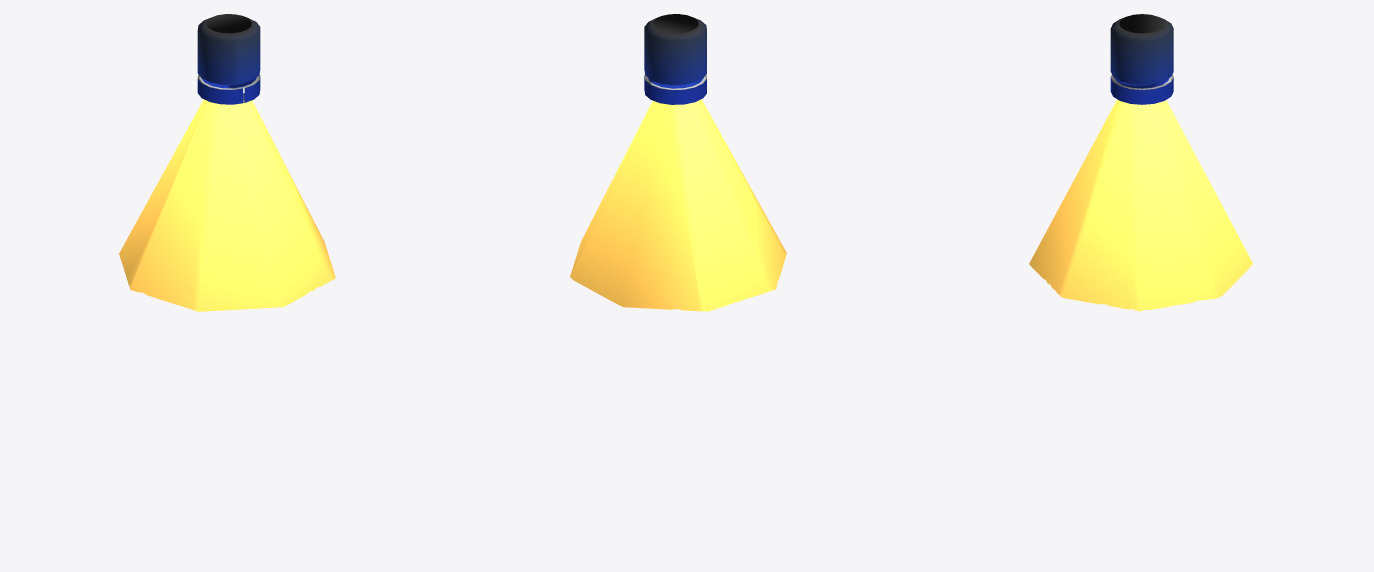
Rendered from LIT0110008.fbx.
The picture shows the model from 3 angles, left to right: view 1: azimuth 30°, elevation 25°; view 2: azimuth 150°, elevation 25°; view 3: azimuth 270°, elevation 25°; orthographic projection.
Parts seen in each view (by area): view 1: smLIT0110008; view 2: smLIT0110008; view 3: smLIT0110008.
Boxes of the visible parts, left/top/right/bottom form: smLIT0110008: left=119, top=14, right=335, bottom=311; smLIT0110008: left=570, top=14, right=786, bottom=311; smLIT0110008: left=1029, top=14, right=1252, bottom=311.
Bounding box in the file's own units: 200 × 223 × 200.
1 material, 1 textured.
